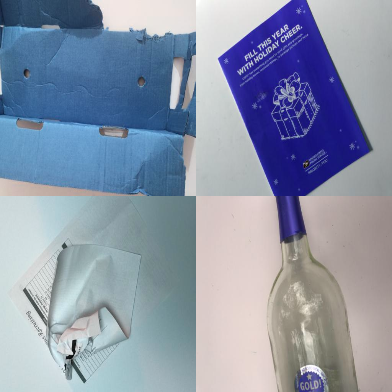cardboard: (1, 1, 195, 195)
glass: (265, 195, 359, 390)
paper: (217, 1, 373, 195), (10, 237, 142, 389)
